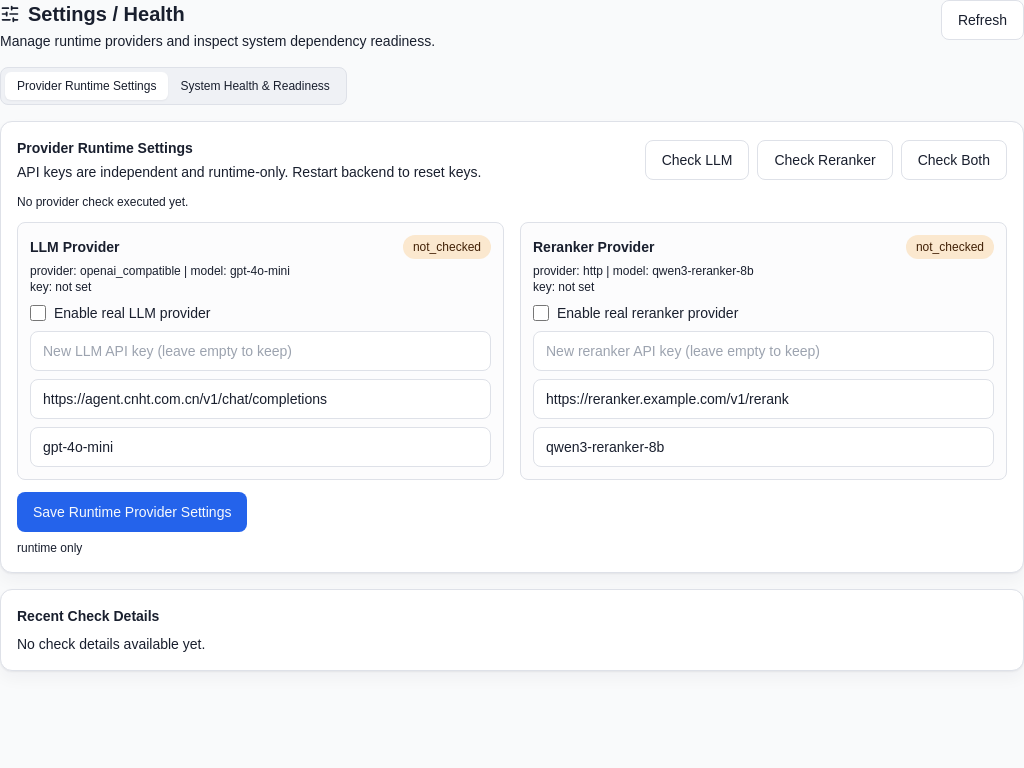
Test: SettingsHealthPage › renders health, readiness and dependency summaries
What coordinates should you click on to do the following:
click the button "System Health & Readiness"
I would click on:
 (255, 86)
Its box is [168,72,342,100].
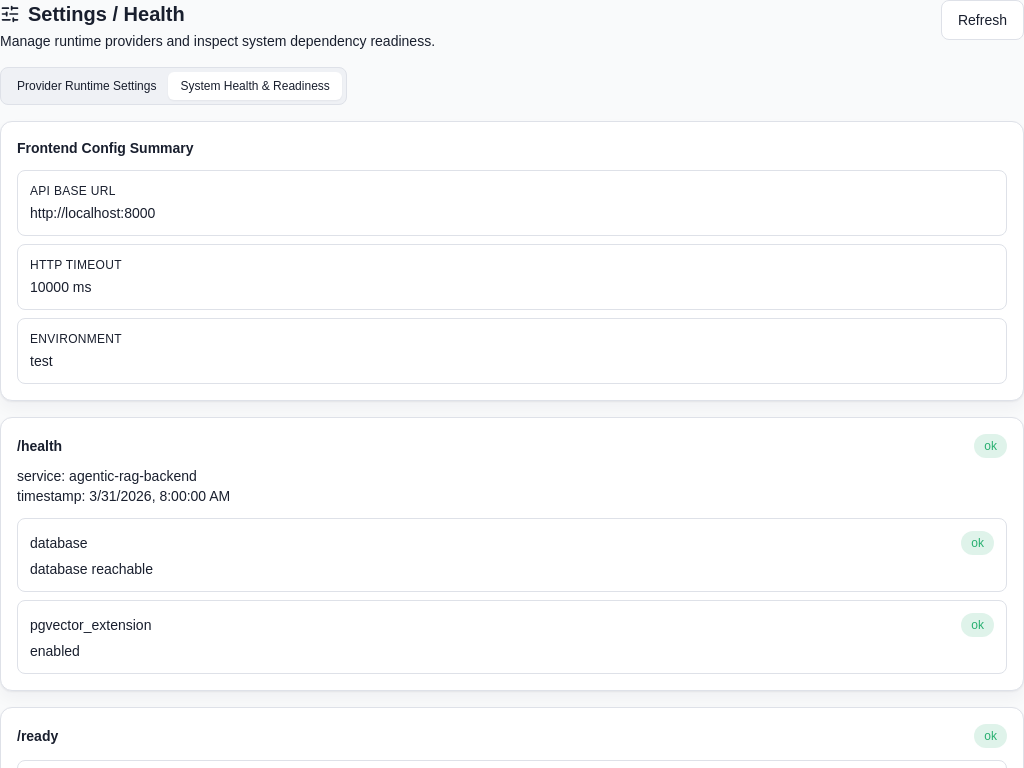
Result: the text "Frontend Config Summary" is shown at [17,140,194,156]
Result: the text "/health" is shown at [17,436,62,456]
Result: the text "/ready" is shown at [17,726,58,746]
